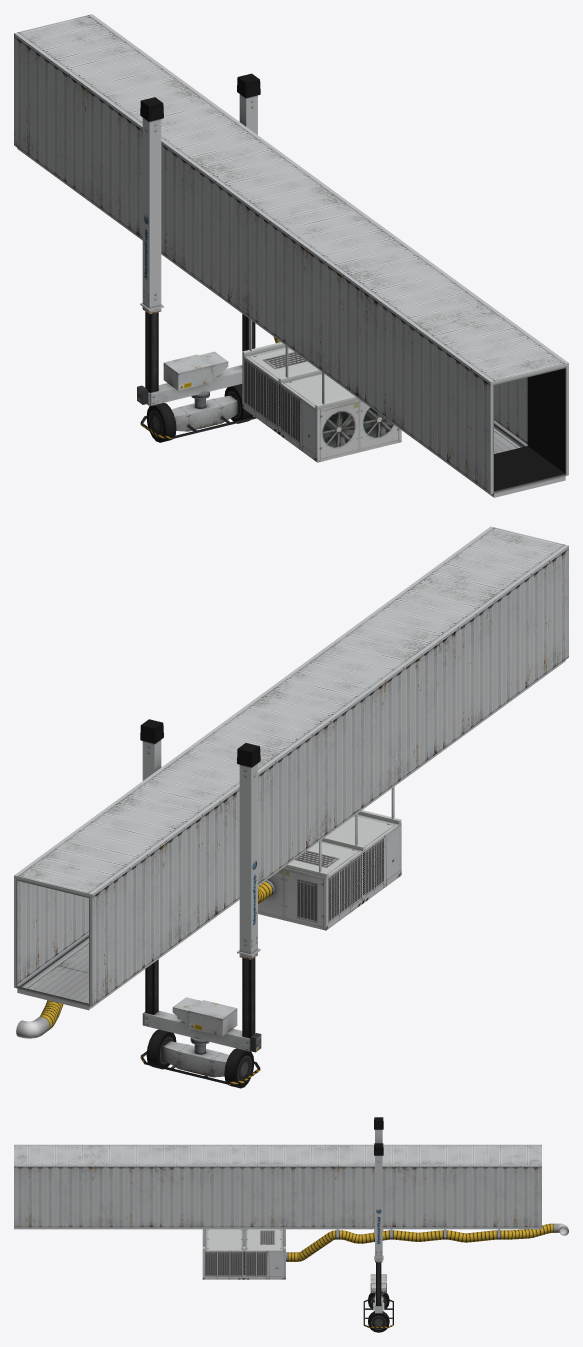
Rendered from jw_tunnel_2_13b.gltf.
The picture shows the model from 3 angles, top to bottom: view 1: azimuth 30°, elevation 25°; view 2: azimuth 150°, elevation 25°; view 3: azimuth 270°, elevation 25°; orthographic projection. The views are drawn at different scales.
Visible parts, largest first — view 1: jw_tunnel_2_13b; view 2: jw_tunnel_2_13b; view 3: jw_tunnel_2_13b.
Part boxes in pixels (x1,y1,x2,y2): jw_tunnel_2_13b: (14,14,568,497); jw_tunnel_2_13b: (14,526,568,1088); jw_tunnel_2_13b: (14,1117,568,1332).
Size of the model in its own units: 2.74 by 7.74 by 20.64.
